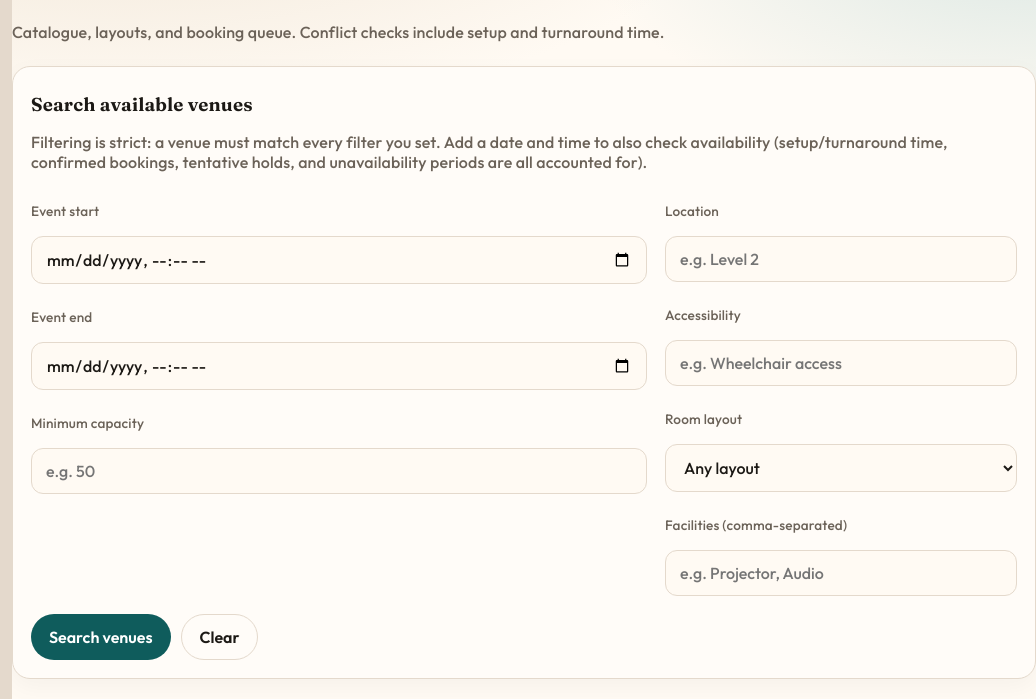
SCUM-24 venue search results › shows "None listed" and no layout pills for a venue with no facilities, accessibility or layouts
What coordinates should you click on to do the following:
click the button "Search venues"
I would click on:
 (101, 637)
Its box is 31,614 -> 170,660.
(page scrolled)
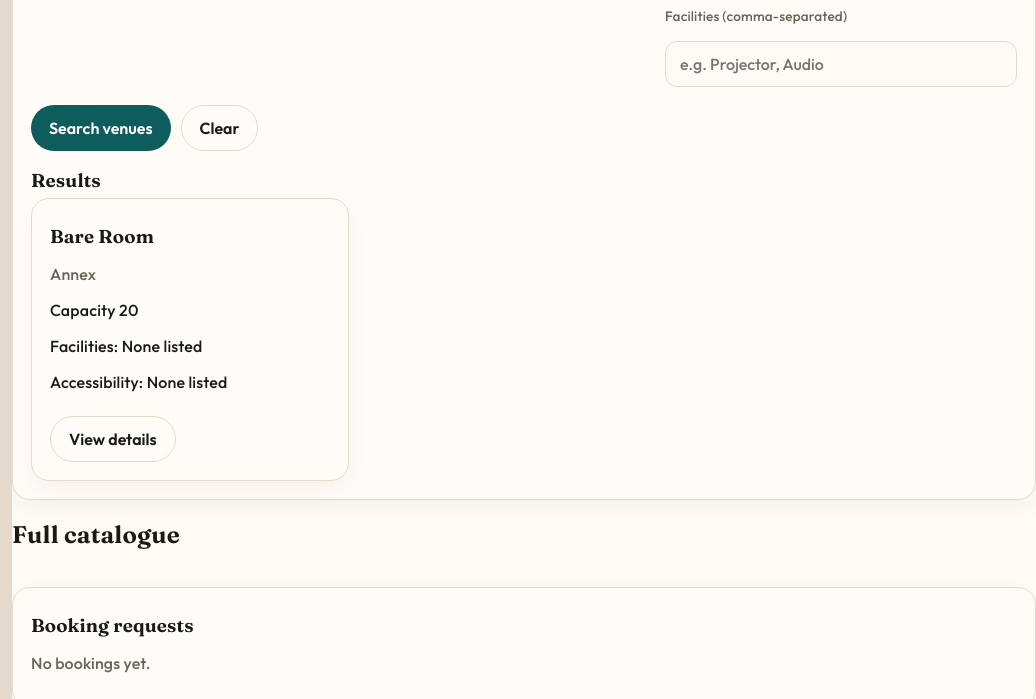
Check: the text "Facilities: None listed" is shown, box 50,336 -> 202,356
Check: the text "Accessibility: None listed" is shown, box 50,372 -> 227,392
What coordinates should you click on to do the following:
click the button "View details"
I would click on:
 (113, 439)
Its box is 50,416 -> 176,462.
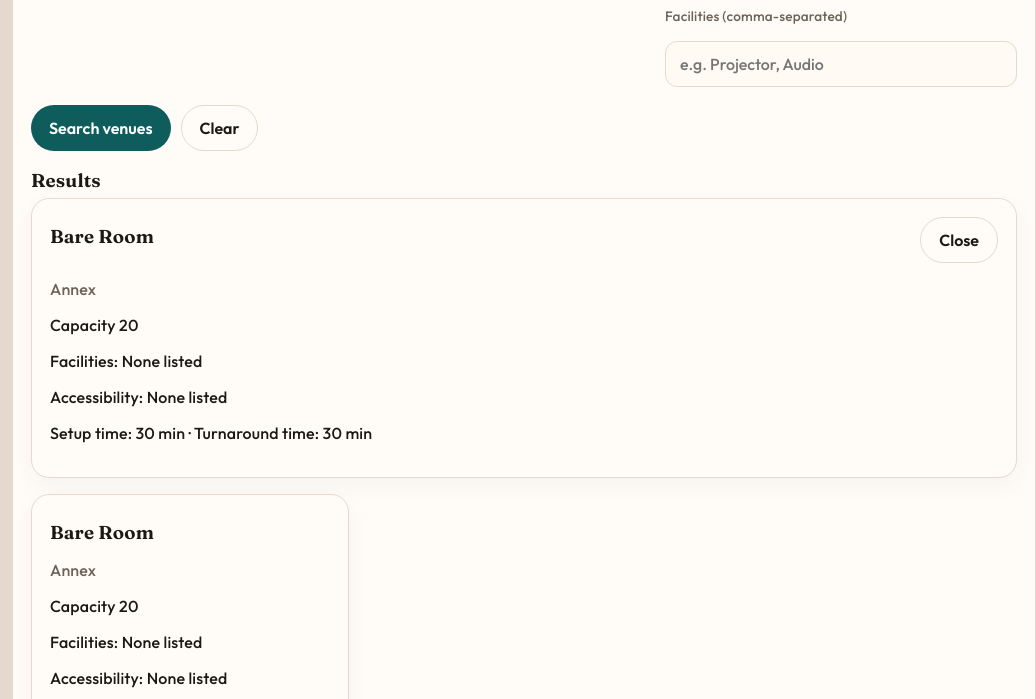
Check: the text "Facilities: None listed" is shown 2 times, box 50,351 -> 202,371; 50,632 -> 202,652
Check: the text "Accessibility: None listed" is shown 2 times, box 50,387 -> 227,407; 50,668 -> 227,688
